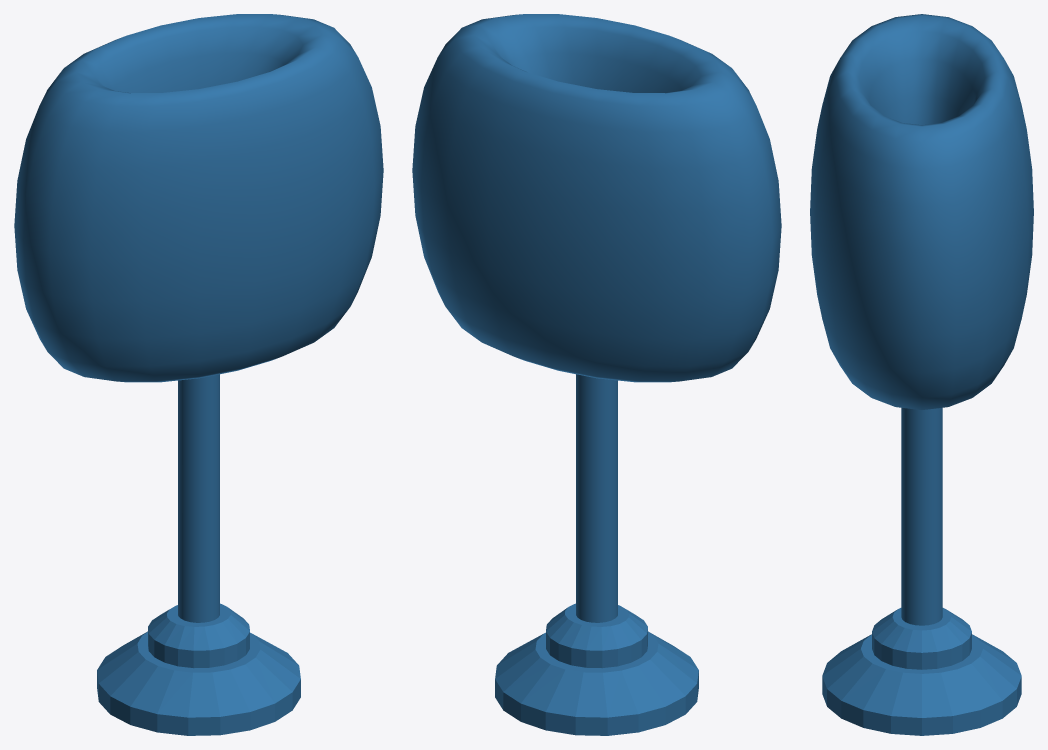
The model's file is lampsketchfab.fbx.
3 views of the same model, side by side, from view 1: azimuth 30°, elevation 25°; view 2: azimuth 150°, elevation 25°; view 3: azimuth 270°, elevation 25° (orthographic). The views are drawn at different scales.
Parts seen in each view (by area): view 1: pTorus1, pCylinder1, pCylinder3, pCylinder2; view 2: pTorus1, pCylinder1, pCylinder3, pCylinder2; view 3: pTorus1, pCylinder1, pCylinder3, pCylinder2.
Part boxes in pixels (left/top/right/bottom): pTorus1: left=14, top=14, right=383, bottom=382; pCylinder1: left=97, top=631, right=300, bottom=735; pCylinder3: left=178, top=374, right=219, bottom=622; pCylinder2: left=148, top=603, right=249, bottom=668; pTorus1: left=412, top=14, right=781, bottom=382; pCylinder1: left=495, top=631, right=698, bottom=735; pCylinder3: left=576, top=374, right=617, bottom=622; pCylinder2: left=546, top=603, right=647, bottom=668; pTorus1: left=810, top=14, right=1033, bottom=409; pCylinder1: left=822, top=634, right=1021, bottom=735; pCylinder3: left=901, top=407, right=942, bottom=625; pCylinder2: left=872, top=608, right=971, bottom=669.
Size of the model in its own units: 7.84 by 13.64 by 4.45.
